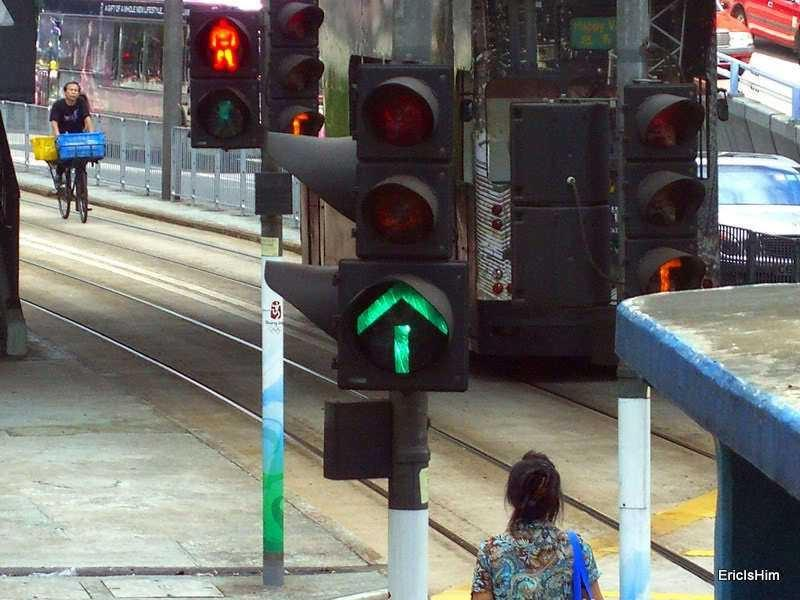green: (339, 261, 469, 391)
red: (193, 7, 261, 77)
